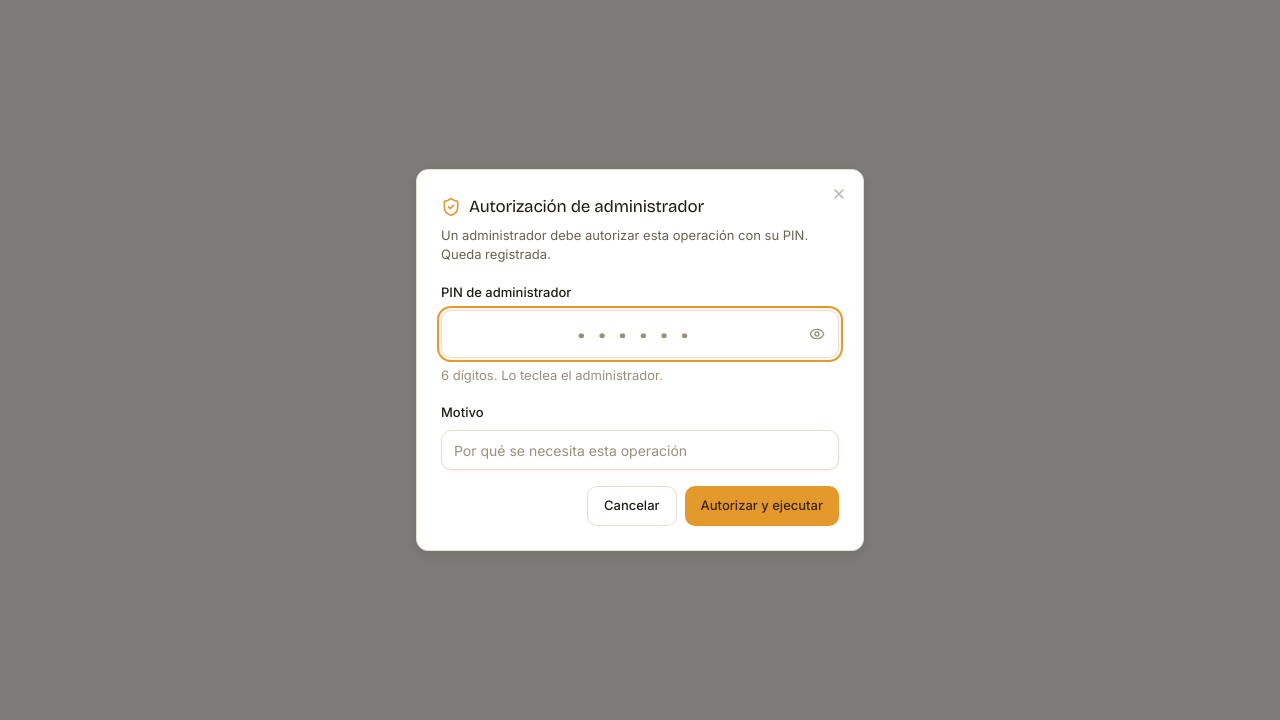
Test case: OverrideAutorizacionDialog › valida en local antes de enviar: PIN incompleto y motivo vacío no viajan
The image size is (1280, 720).
In the password field labelled "PIN de administrador": (640, 334) [441,310,839,358], type "4829"
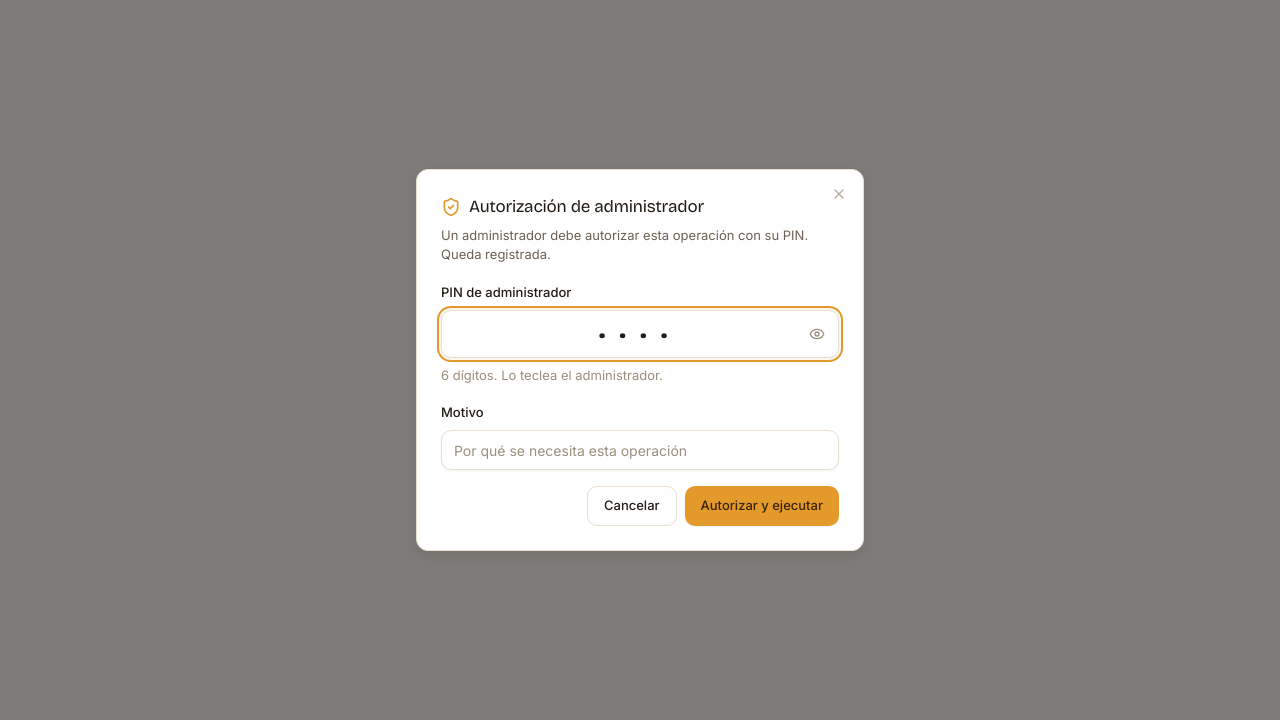
Click the button "Autorizar y ejecutar": (762, 506) [684,486,839,526]
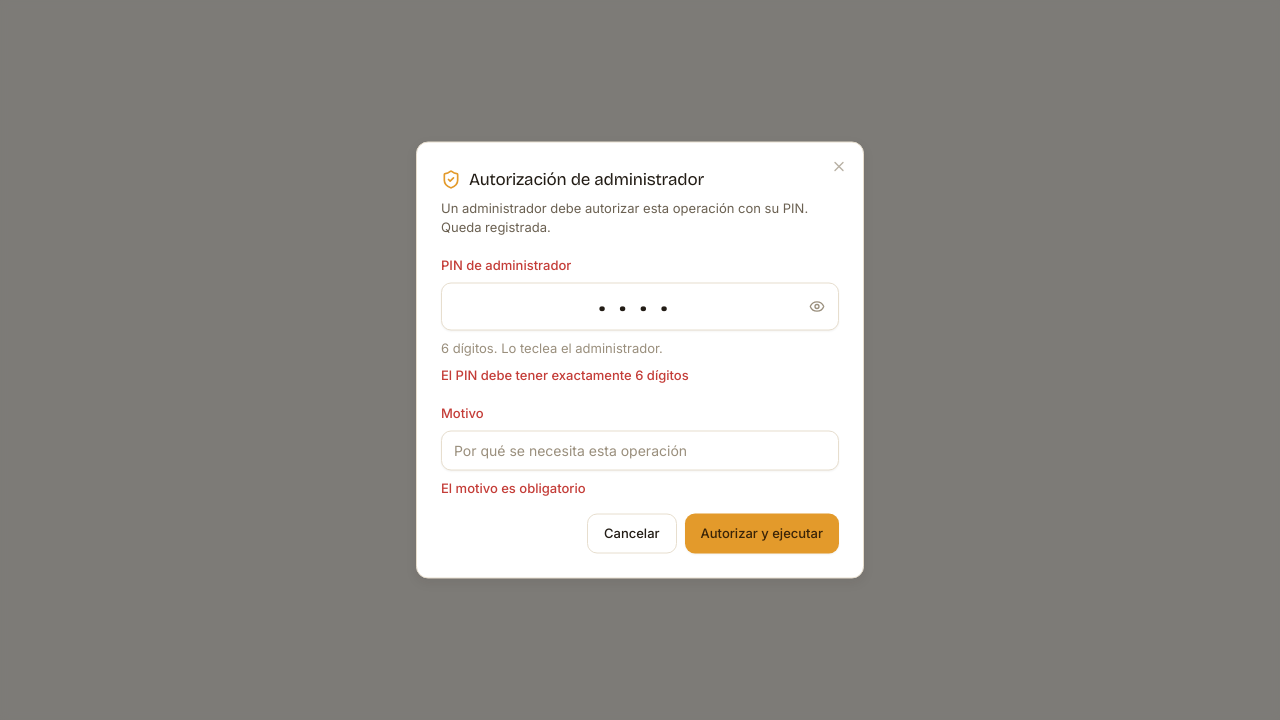
Expected: the text "El PIN debe tener exactamente 6 dígitos" is shown, [441,366,689,382]
Expected: the text "El motivo es obligatorio" is shown, [441,479,586,495]
